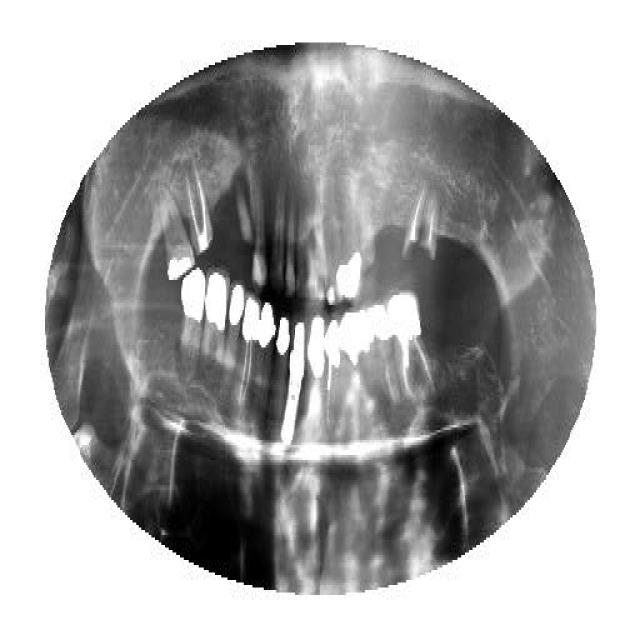Cavity: (401, 188, 439, 268), (234, 172, 255, 260)
Fillings: (364, 305, 401, 407), (161, 195, 195, 283), (202, 272, 230, 378), (180, 265, 206, 377), (222, 278, 246, 390), (336, 210, 362, 302), (255, 303, 276, 415), (271, 315, 291, 427), (340, 305, 364, 375), (307, 315, 325, 393)
Implant: (388, 290, 438, 402), (282, 315, 308, 447), (186, 160, 214, 255), (239, 290, 261, 408), (324, 312, 340, 430)
